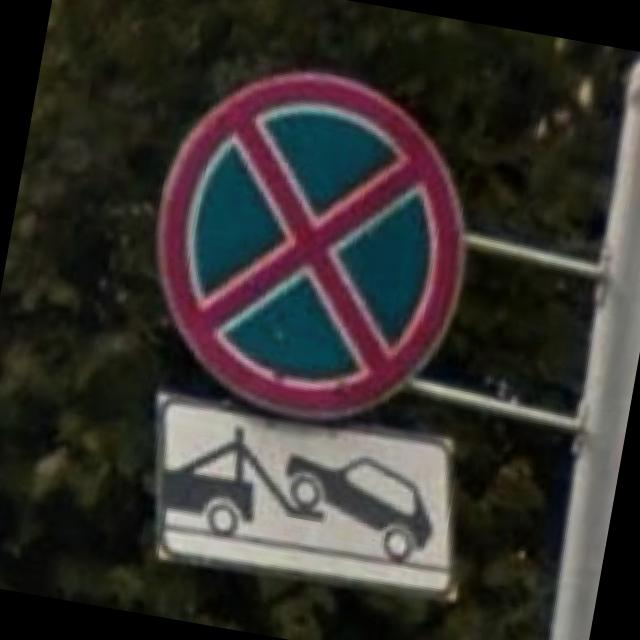Zakaz zatrzymywania sie: (124, 46, 497, 446)
